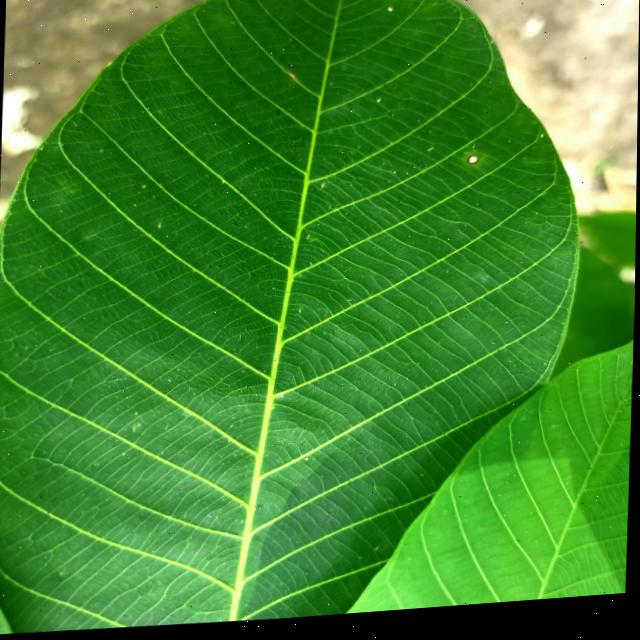Colletotrichum: (467, 163, 478, 171)
